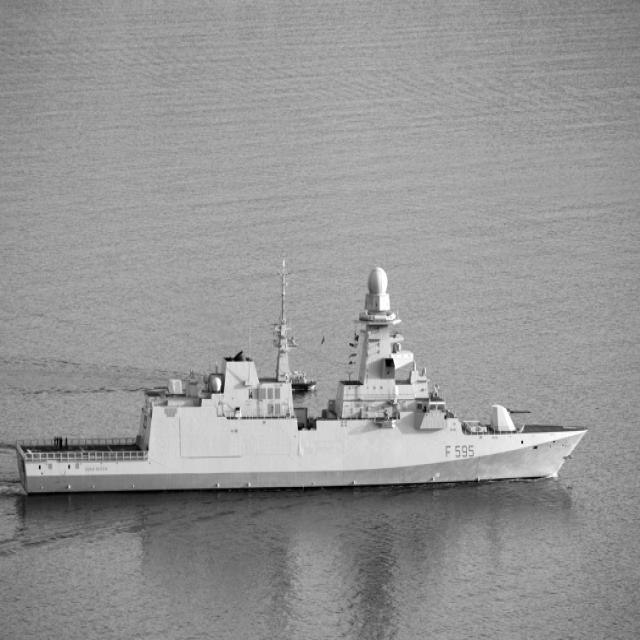Fragata: (11, 260, 593, 506)
